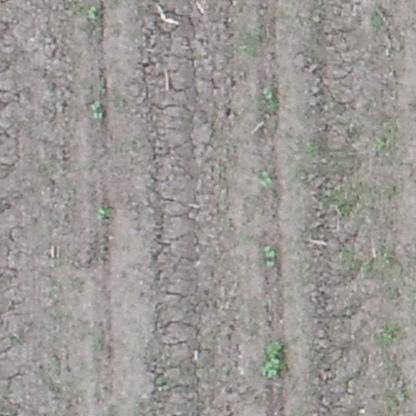vc: (262, 355, 283, 380), (257, 168, 277, 190), (263, 244, 278, 271), (91, 101, 105, 119), (261, 88, 277, 102), (86, 5, 99, 21), (97, 205, 108, 219)
